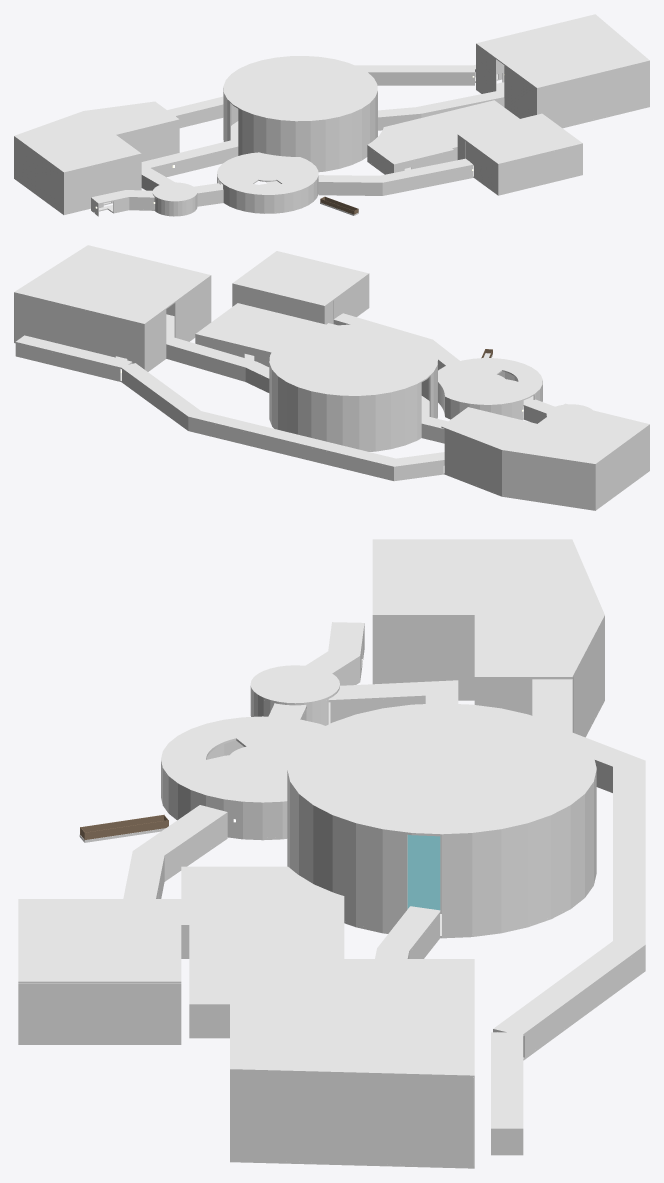
3 renders of one model, top to bottom at view 1: azimuth 30°, elevation 25°; view 2: azimuth 150°, elevation 25°; view 3: azimuth 270°, elevation 25°, orthographic. The views are drawn at different scales.
Parts seen in each view (by area): view 1: b1_ceiling_rock_ceiling, b1_wall_basalt, b1_wall_plaster, b1_floor_stone_floor; view 2: b1_ceiling_rock_ceiling, b1_wall_basalt, b1_wall_plaster, b1_floor_stone_floor; view 3: b1_ceiling_rock_ceiling, b1_wall_basalt, b1_wall_plaster, b1_floor_stone_floor, b1_water_w_mirror, b1_rail_rail.
Part boxes in pixels (x1=…): b1_ceiling_rock_ceiling: x1=14, y1=14, x2=649, y2=204; b1_wall_basalt: x1=14, y1=45, x2=649, y2=213; b1_wall_plaster: x1=91, y1=70, x2=582, y2=215; b1_floor_stone_floor: x1=14, y1=74, x2=649, y2=216; b1_ceiling_rock_ceiling: x1=14, y1=245, x2=649, y2=467; b1_wall_basalt: x1=14, y1=276, x2=649, y2=509; b1_wall_plaster: x1=15, y1=275, x2=546, y2=479; b1_floor_stone_floor: x1=14, y1=307, x2=649, y2=510; b1_ceiling_rock_ceiling: x1=18, y1=539, x2=645, y2=1130; b1_wall_basalt: x1=230, y1=617, x2=604, y2=1166; b1_wall_plaster: x1=18, y1=626, x2=645, y2=1152; b1_floor_stone_floor: x1=18, y1=648, x2=645, y2=1168; b1_water_w_mirror: x1=407, y1=834, x2=440, y2=910; b1_rail_rail: x1=80, y1=814, x2=168, y2=840.
Bounding box in the file's own units: 158 × 15.26 × 77.
